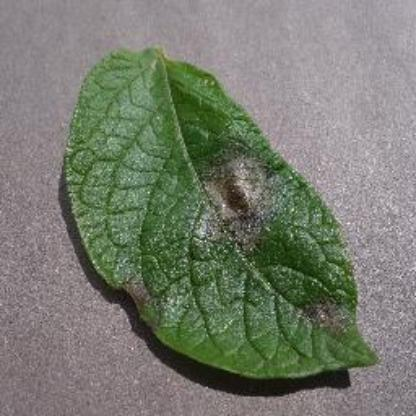Late-Blight: (61, 17, 385, 407)
